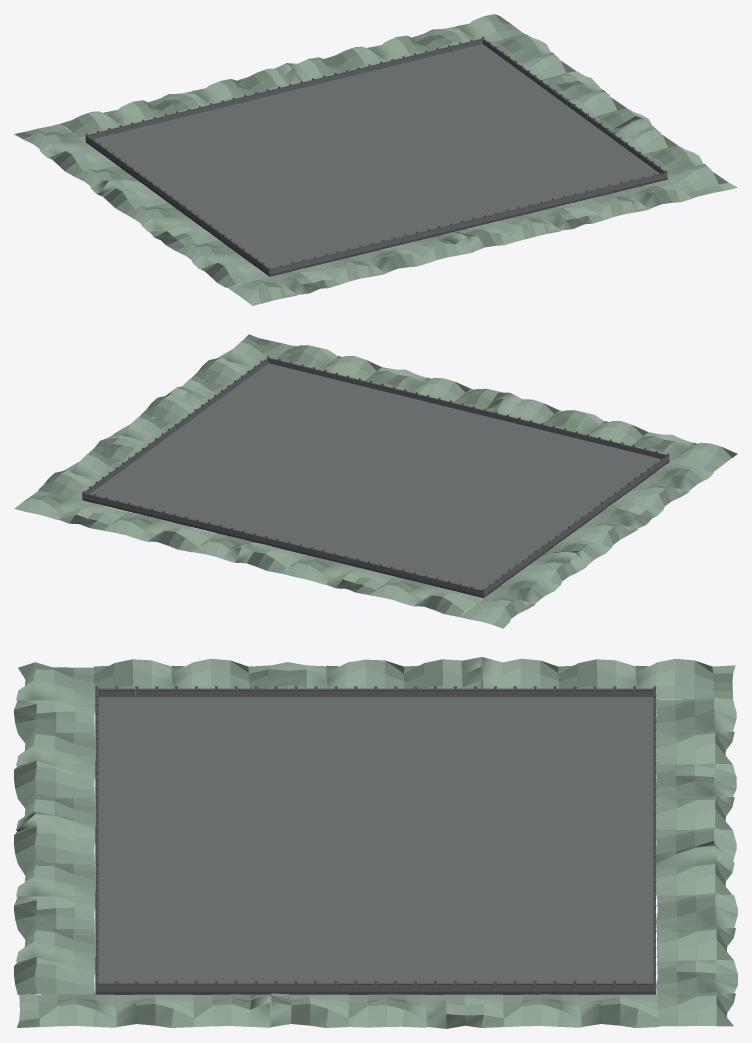
The model's file is Ground.fbx.
3 renders of one model, top to bottom at view 1: azimuth 30°, elevation 25°; view 2: azimuth 150°, elevation 25°; view 3: azimuth 270°, elevation 25°, orthographic. The views are drawn at different scales.
Parts seen in each view (by area): view 1: Debris; view 2: Debris; view 3: Debris.
Boxes of the visible parts, left/top/right/bottom form: Debris: left=14, top=14, right=737, bottom=305; Debris: left=14, top=334, right=737, bottom=628; Debris: left=14, top=657, right=737, bottom=1028.
Bounding box in the file's own units: 28200 × 759 × 23723.
